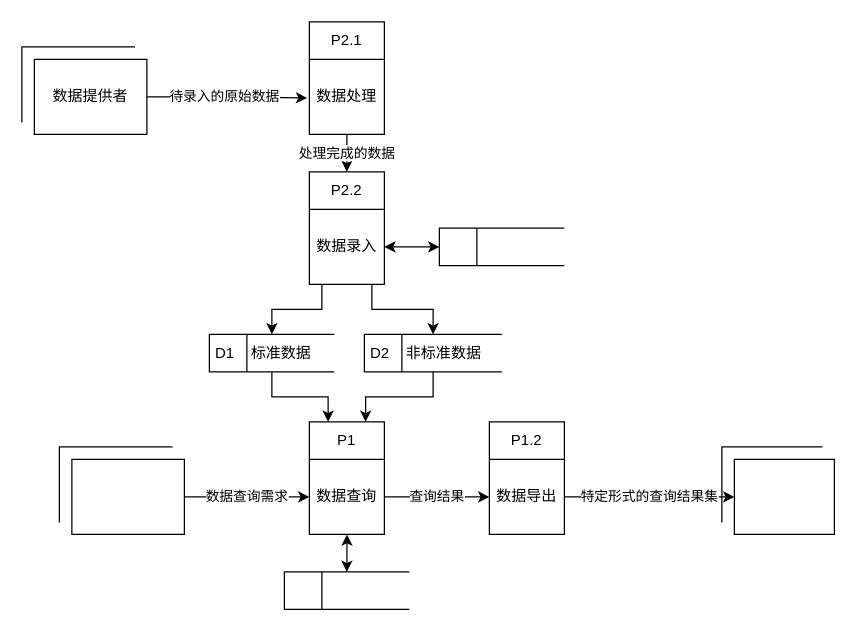
Image size: 856x631. Some labels were removed from this diagram. The centre of each missing label's shape, as x and y in pixels:
"D3 查询记录" goes at [346,590].
"D4 录入记录" goes at [501,246].
"数据使用者" goes at [783,496].
"数据查询者" goes at [127,496].
